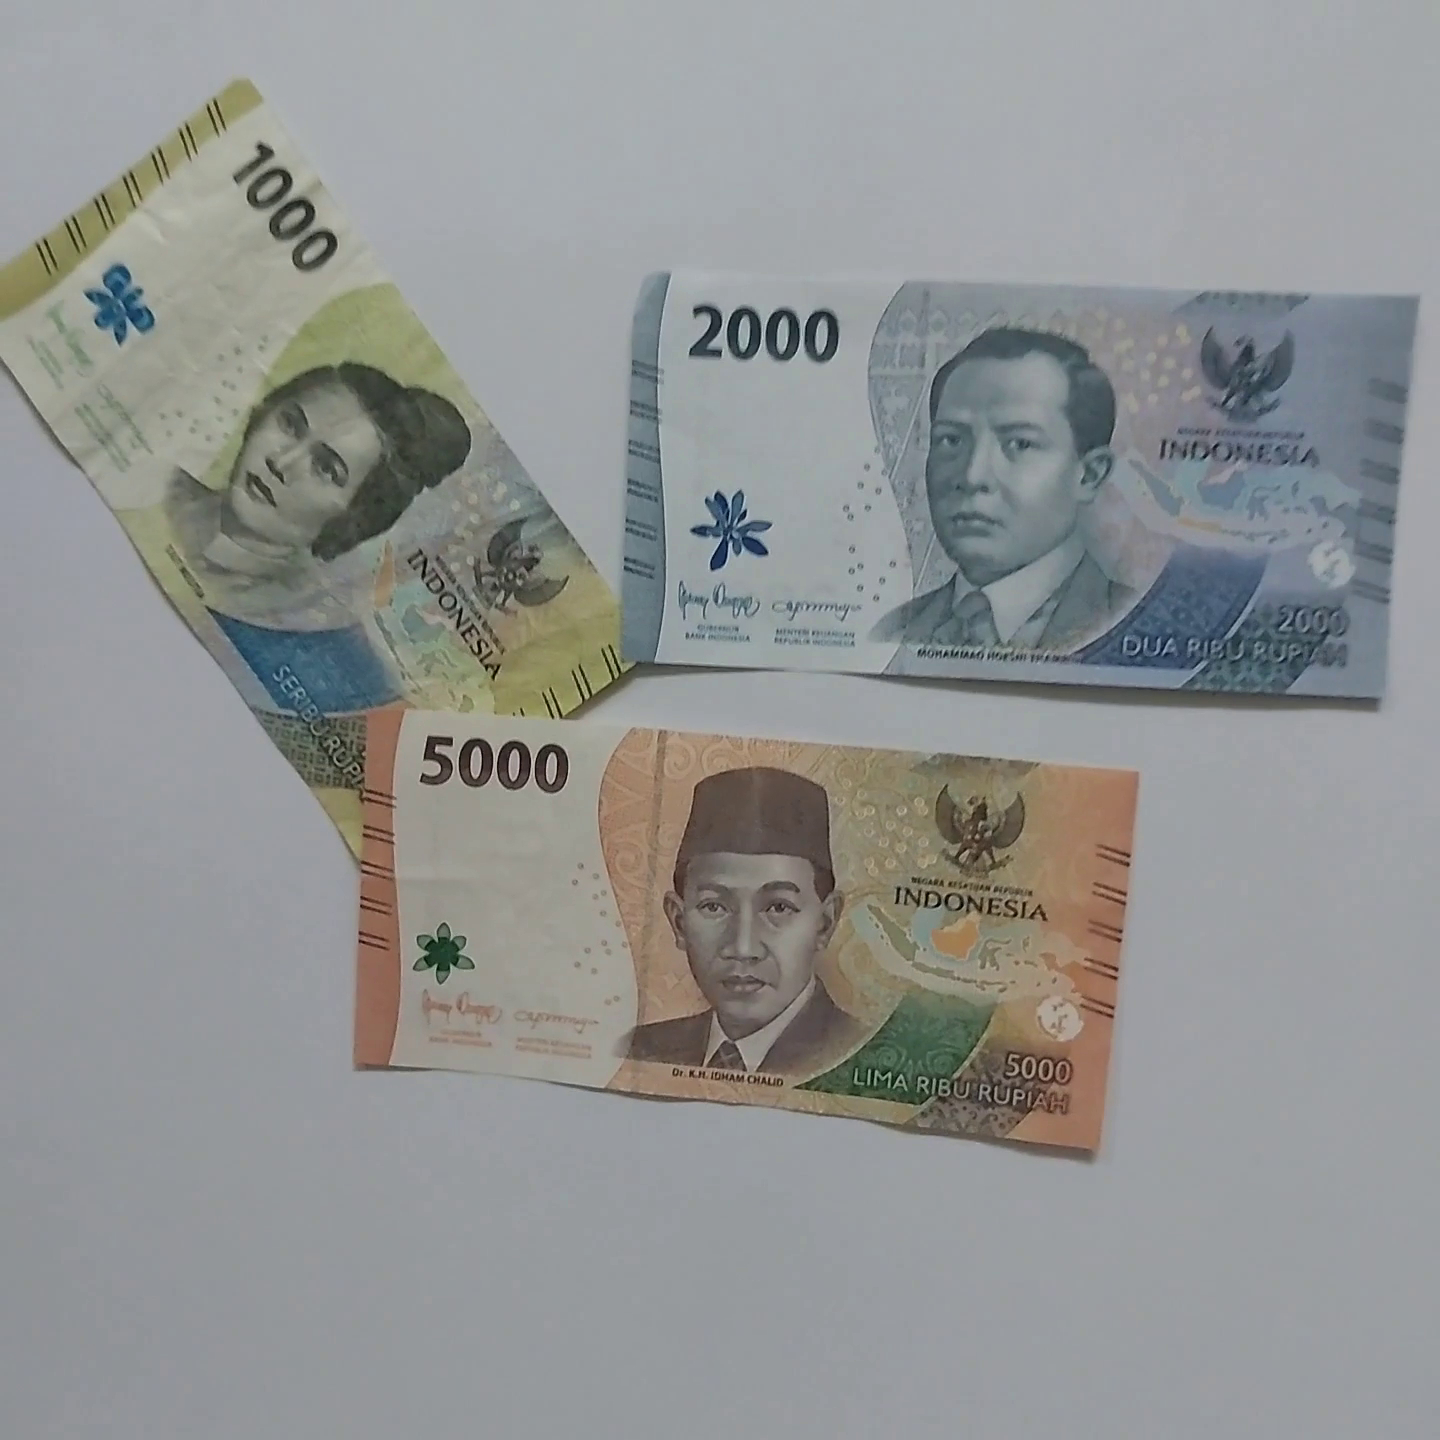1k: (0, 34, 650, 808)
2k: (576, 191, 1440, 754)
5k: (327, 704, 1192, 1142)
